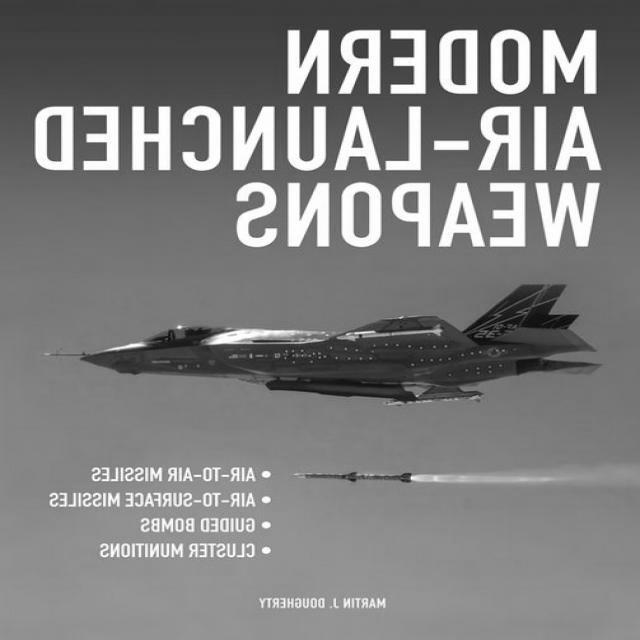Missile: (275, 456, 429, 492)
